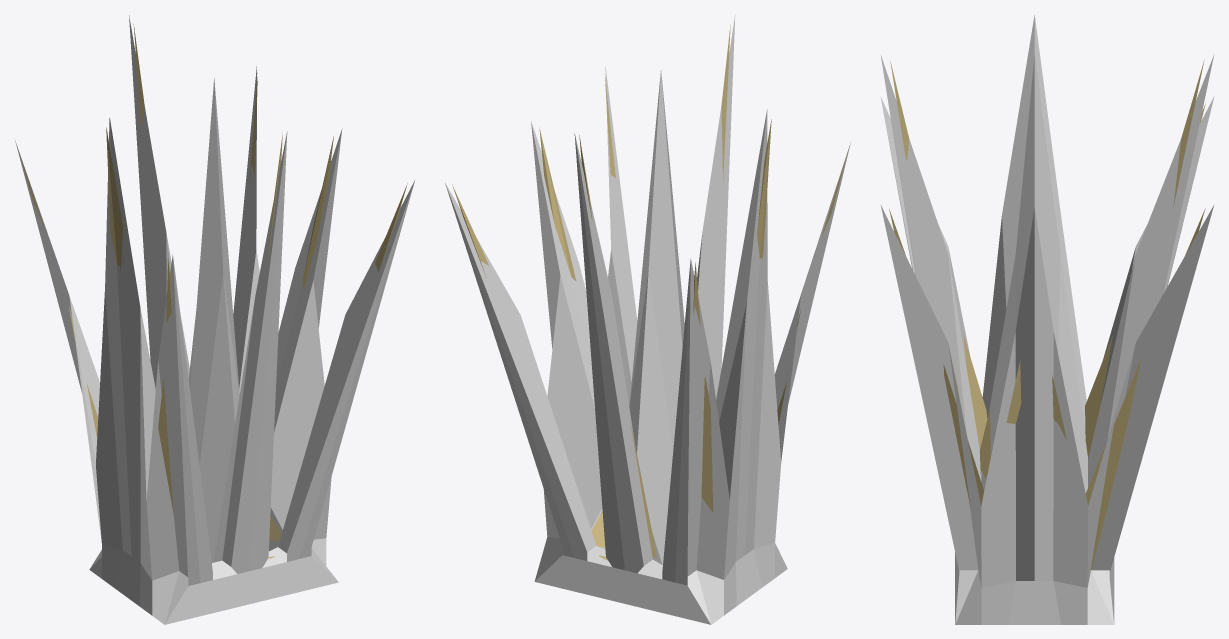
File: resource__grass__grass-tall.fbx
3 renders of one model, left to right at view 1: azimuth 30°, elevation 25°; view 2: azimuth 150°, elevation 25°; view 3: azimuth 270°, elevation 25°, orthographic. The views are drawn at different scales.
Parts seen in each view (by area): view 1: Grass_Tall; view 2: Grass_Tall; view 3: Grass_Tall.
Boxes of the visible parts, x1,y1,x2,y2 form: Grass_Tall: (15, 15, 414, 624); Grass_Tall: (445, 15, 850, 624); Grass_Tall: (880, 15, 1214, 624).
Size of the model in its own units: 53.82 by 106 by 60.65.
